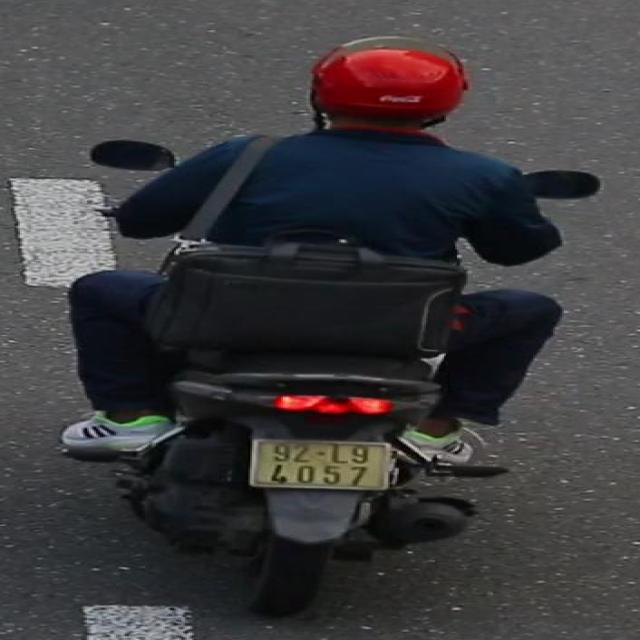LP: (246, 438, 399, 496)
helmet: (295, 39, 477, 141)
